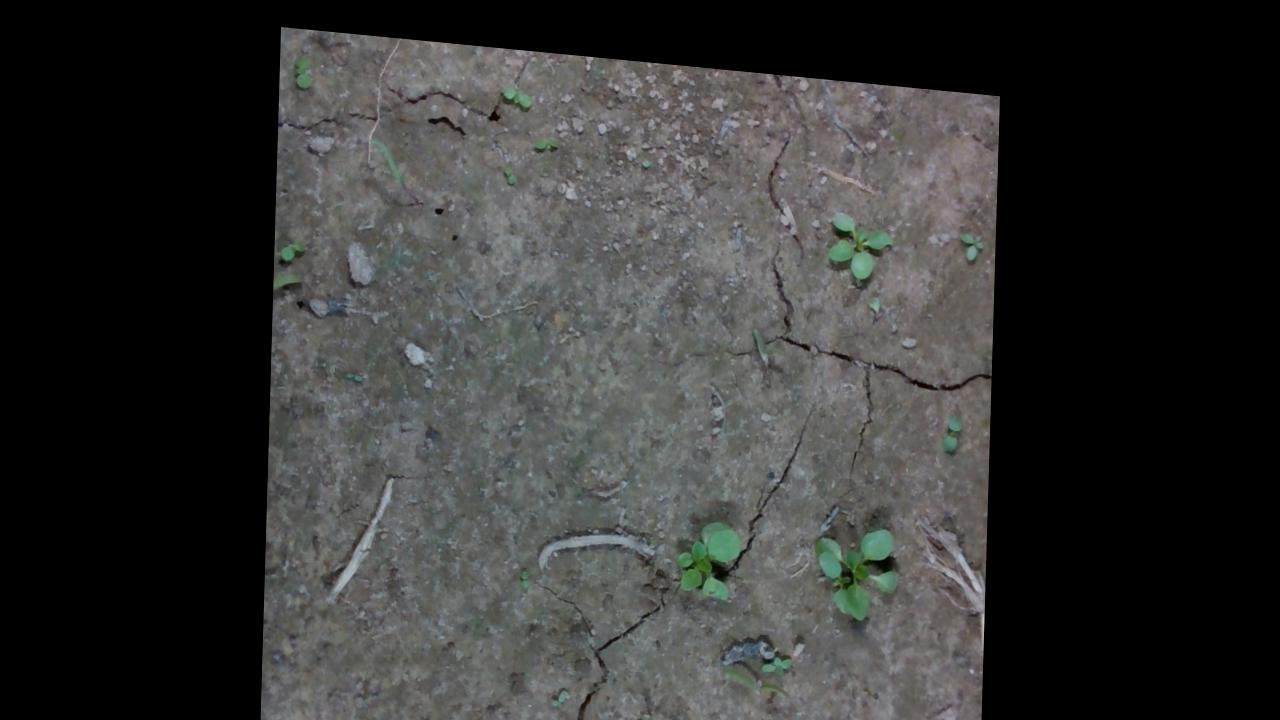weed: (940, 392, 969, 438), (496, 70, 538, 99), (958, 207, 988, 244), (765, 634, 804, 661), (526, 118, 562, 144), (494, 154, 519, 180)
